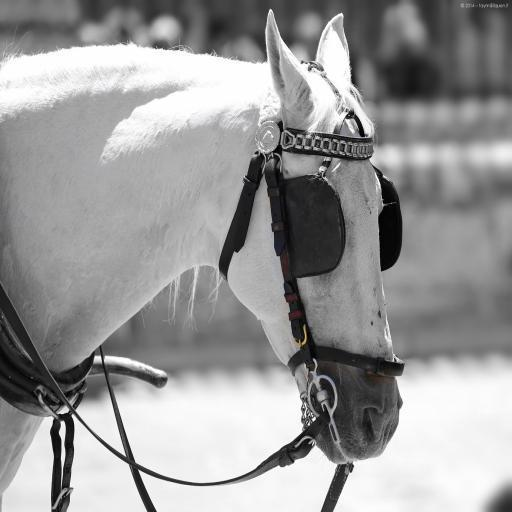horse: (0, 9, 406, 512)
